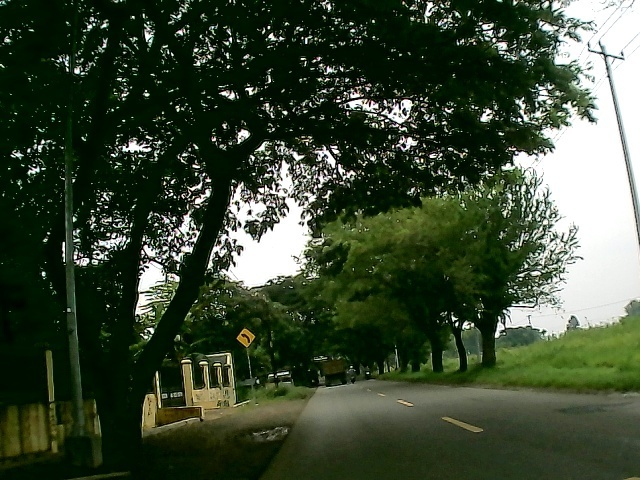Tikungan ke kiri: (235, 328, 256, 349)
